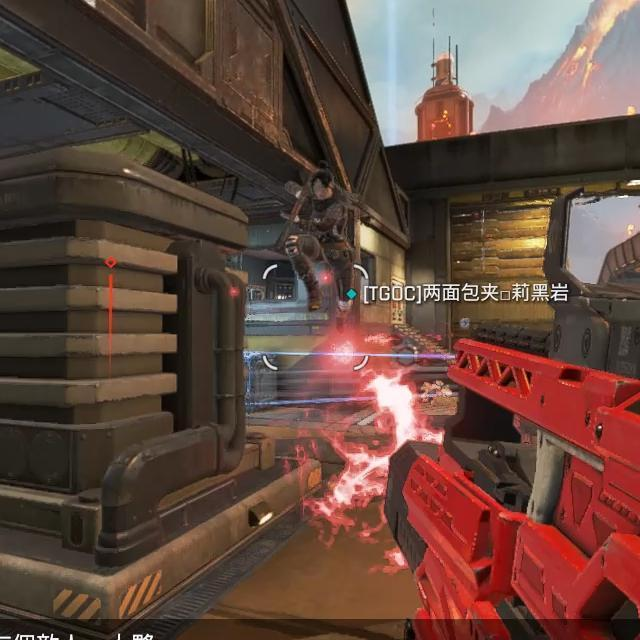avatar: (282, 160, 357, 315)
